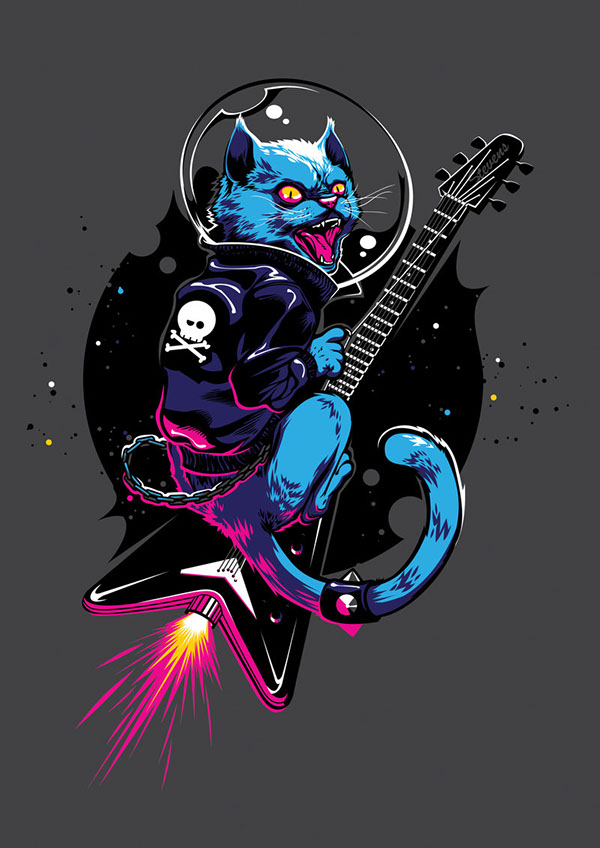cat: (159, 103, 472, 630)
